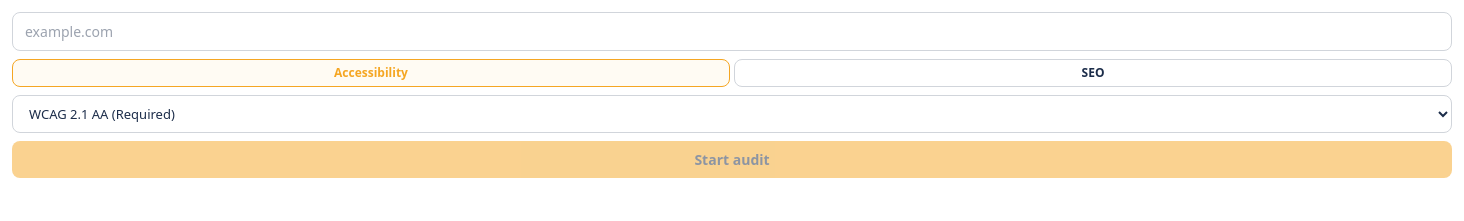
Test: QuickSiteAuditWidget › shows an inline error on a 400 and does not redirect
Type "x" into the field with placeholder "example.com" at (732, 32), box [12,12,1452,51]
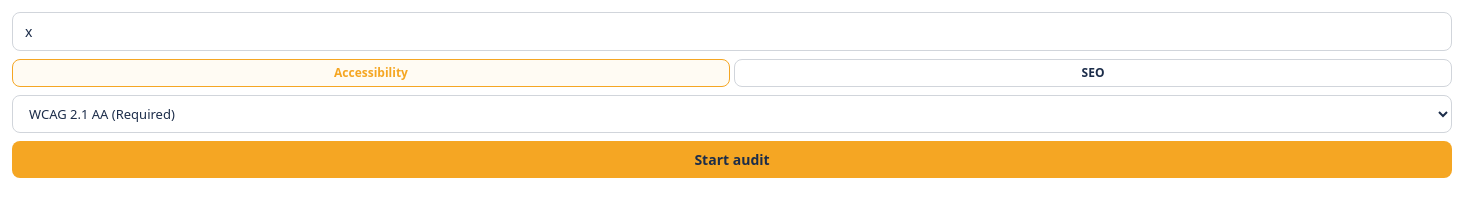
Click the button "Start audit" at (732, 160), box [12,141,1452,178]
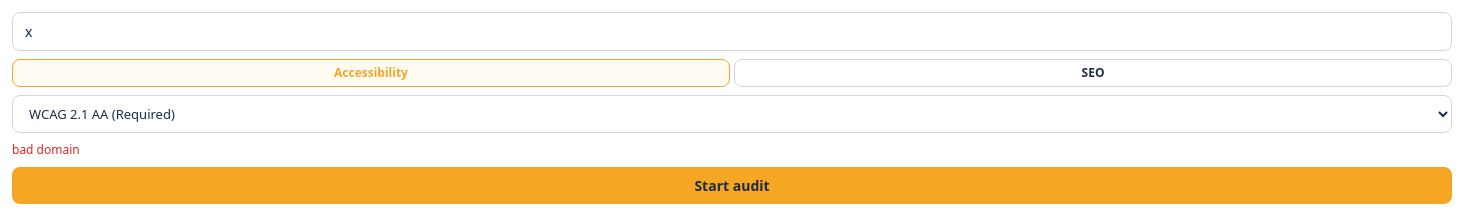
Now the text "bad domain" is shown, box [12,141,80,158]
